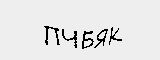Б: (81, 31, 95, 50)
К: (108, 25, 122, 45)
П: (42, 23, 59, 49)
Ч: (59, 27, 78, 48)
Я: (93, 27, 108, 52)
